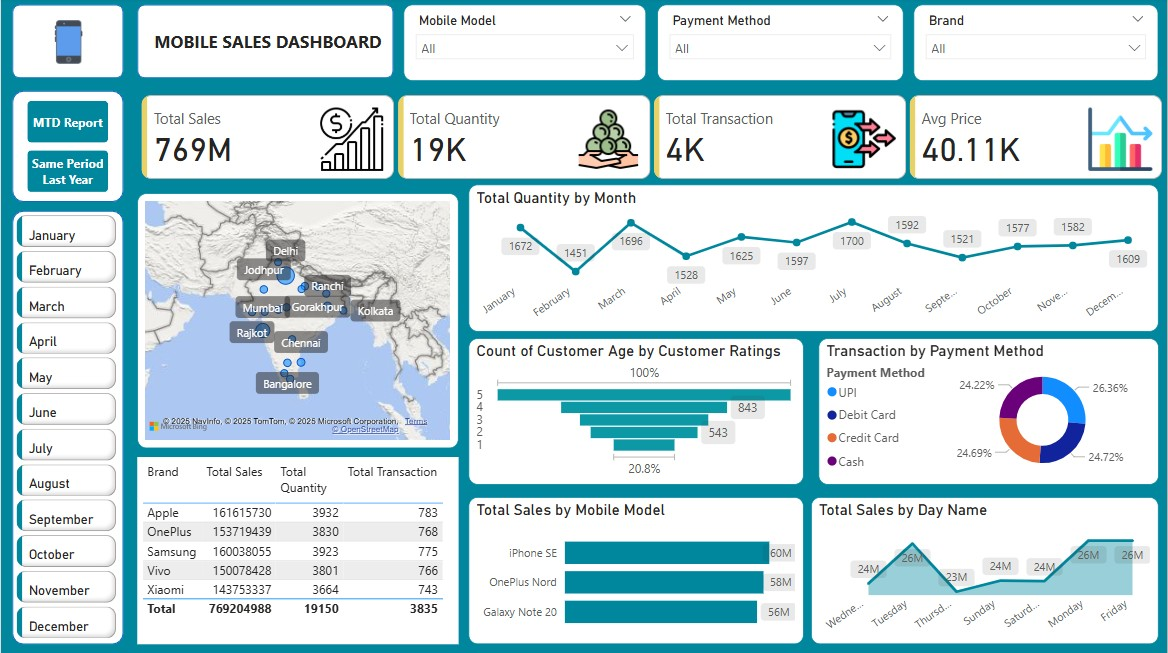

What the dashboard file says about the page in this screenshot:
{"tool":"powerbi","page":{"name":"Dashboard","canvas":[1280,720],"ordinal":0},"visuals":[{"type":"shape","box":[12.3,8.2,122.1,81],"z":0},{"type":"image","box":[24.7,20.6,98.8,57.6],"z":1000},{"type":"shape","box":[12.3,102.9,122.1,122.1],"z":2000},{"type":"shape","box":[12.3,234.6,122.1,476.2],"z":3000},{"type":"advancedSlicerVisual","fields":{"Values":["Custom Calendar.Date.Variation.Date Hierarchy.Month"]},"box":[12.3,234.6,119.4,485.8],"z":4000},{"type":"cardVisual","fields":{"Data":["sales_data.Total Sales","sales_data.Total Quantity","sales_data.Total Transaction","sales_data.Avg Price"]},"box":[149.6,102.9,1130.7,102.9],"z":5000},{"type":"slicer","fields":{"Values":["sales_data.Mobile Model"]},"box":[441.9,8.2,266.2,83.7],"z":6000},{"type":"slicer","fields":{"Values":["sales_data.Payment Method"]},"box":[720.4,8.2,270.3,83.7],"z":7000},{"type":"slicer","fields":{"Values":["sales_data.Brand"]},"box":[1001.7,8.2,269,83.7],"z":8000},{"type":"shape","box":[149.6,8.2,281.3,81],"z":9000},{"type":"textbox","box":[163.3,31.6,365,57.6],"z":10000},{"type":"map","fields":{"Category":["sales_data.City"],"Size":["sales_data.Total Sales"]},"box":[149.6,215.4,352.7,279.9],"z":11000},{"type":"lineChart","fields":{"Y":["sales_data.Total Quantity"],"Category":["Custom Calendar.Date.Variation.Date Hierarchy.Month"]},"box":[513.2,205.8,757.5,161.9],"z":12000},{"type":"funnel","fields":{"Y":["CountNonNull(sales_data.Customer Age)"],"Category":["sales_data.Customer Ratings"]},"box":[513.2,374.6,367.8,160.5],"z":13000},{"type":"donutChart","title":"Transaction by Payment Method","fields":{"Y":["sales_data.Total Transaction"],"Category":["sales_data.Payment Method"]},"box":[897.4,374.6,373.2,160.5],"z":14000},{"type":"clusteredBarChart","fields":{"Category":["sales_data.Mobile Model"],"Y":["sales_data.Total Sales"]},"box":[513.2,548.9,367.8,161.9],"z":15000},{"type":"areaChart","fields":{"Y":["sales_data.Total Sales"],"Category":["Custom Calendar.Day Name"]},"box":[889.2,548.9,381.5,161.9],"z":15001},{"type":"tableEx","fields":{"Values":["sales_data.Brand","sales_data.Total Sales","sales_data.Total Quantity","sales_data.Total Transaction"]},"box":[149.6,505,352.7,205.8],"z":15002},{"type":"pageNavigator","box":[28.8,113.9,89.2,101.5],"z":15003}]}

Visuals, with their boxes in screenshot pixels (x1, y1, x2, y2), scaled from the page's 1280x720 canvas onto the 1168x653 screenshot:
shape: bbox(11, 7, 123, 81)
image: bbox(23, 19, 113, 71)
shape: bbox(11, 93, 123, 204)
shape: bbox(11, 213, 123, 645)
advancedSlicerVisual - Custom Calendar.Date.Variation.Date Hierarchy.Month: bbox(11, 213, 120, 652)
cardVisual - sales_data.Total Sales x sales_data.Total Quantity: bbox(137, 93, 1167, 187)
slicer - sales_data.Mobile Model: bbox(403, 7, 646, 83)
slicer - sales_data.Payment Method: bbox(657, 7, 904, 83)
slicer - sales_data.Brand: bbox(914, 7, 1160, 83)
shape: bbox(137, 7, 393, 81)
textbox: bbox(149, 29, 482, 81)
map - sales_data.City x sales_data.Total Sales: bbox(137, 195, 458, 449)
lineChart - sales_data.Total Quantity x Custom Calendar.Date.Variation.Date Hierarchy.Month: bbox(468, 187, 1160, 333)
funnel - CountNonNull(sales_data.Customer Age) x sales_data.Customer Ratings: bbox(468, 340, 804, 485)
"Transaction by Payment Method" donutChart: bbox(819, 340, 1159, 485)
clusteredBarChart - sales_data.Mobile Model x sales_data.Total Sales: bbox(468, 498, 804, 645)
areaChart - sales_data.Total Sales x Custom Calendar.Day Name: bbox(811, 498, 1160, 645)
tableEx - sales_data.Brand x sales_data.Total Sales: bbox(137, 458, 458, 645)
pageNavigator: bbox(26, 103, 108, 195)
